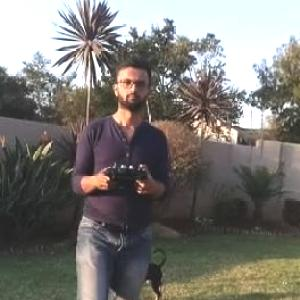follow: (65, 54, 168, 299)
